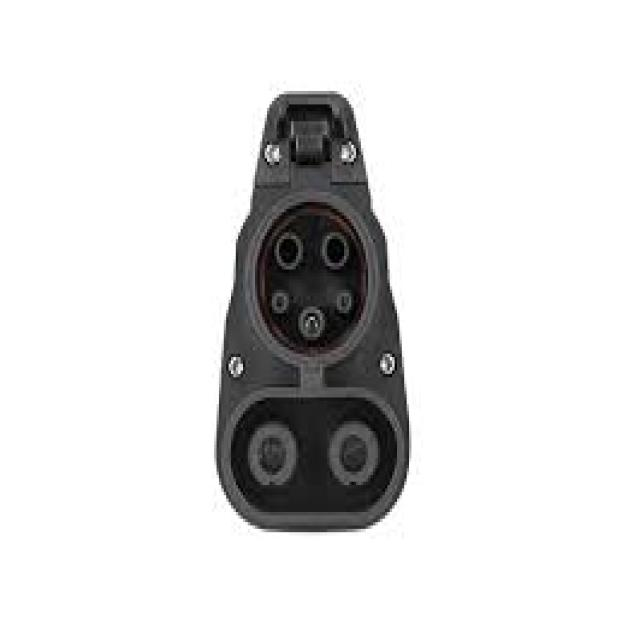CCS1: (176, 95, 447, 548)
